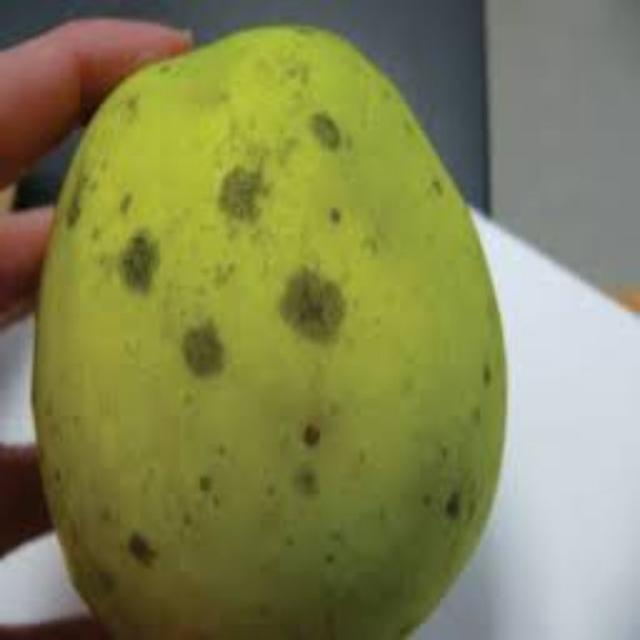Rotten Apple: (15, 0, 542, 624)
